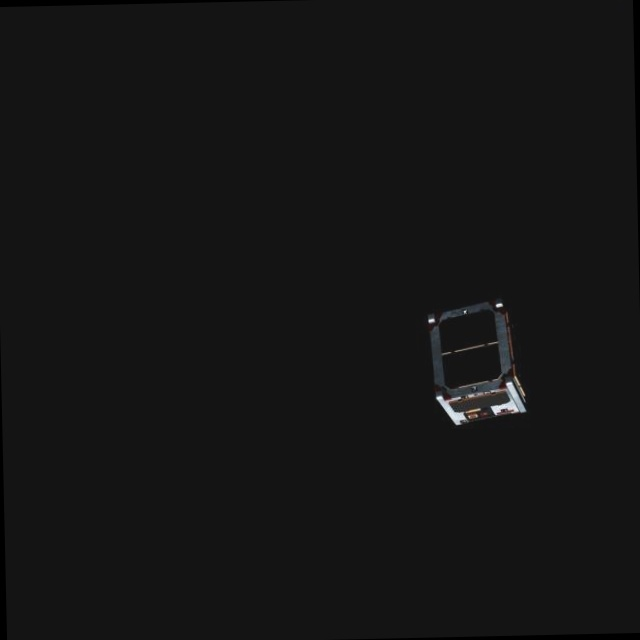medium_debris: (419, 302, 535, 430)
